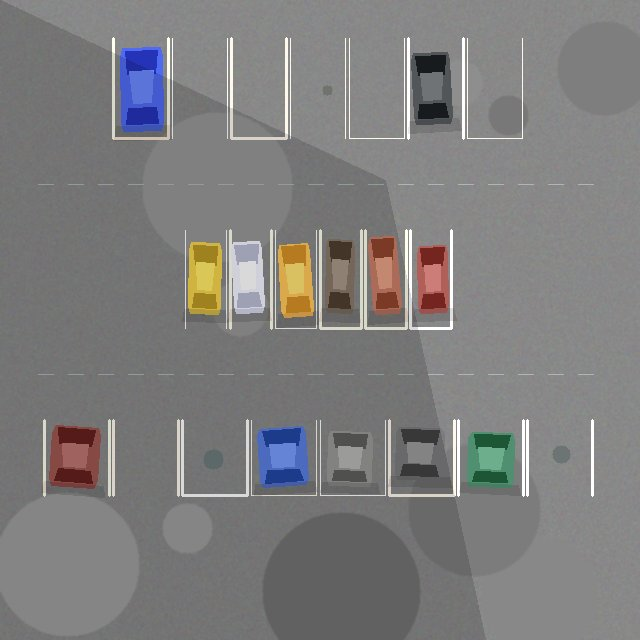space-empty: (172, 38, 227, 138), (231, 38, 286, 138), (290, 38, 345, 138), (349, 38, 404, 138), (467, 38, 522, 138), (113, 420, 178, 495), (182, 420, 247, 495), (527, 420, 592, 495)
space-occupied: (113, 38, 168, 138), (408, 38, 463, 138), (44, 420, 109, 495), (251, 420, 316, 495), (320, 420, 385, 495), (389, 420, 454, 495), (458, 420, 523, 495), (185, 230, 226, 328), (230, 230, 271, 328), (275, 230, 316, 328), (320, 230, 361, 328), (365, 230, 406, 328), (410, 230, 451, 328)
